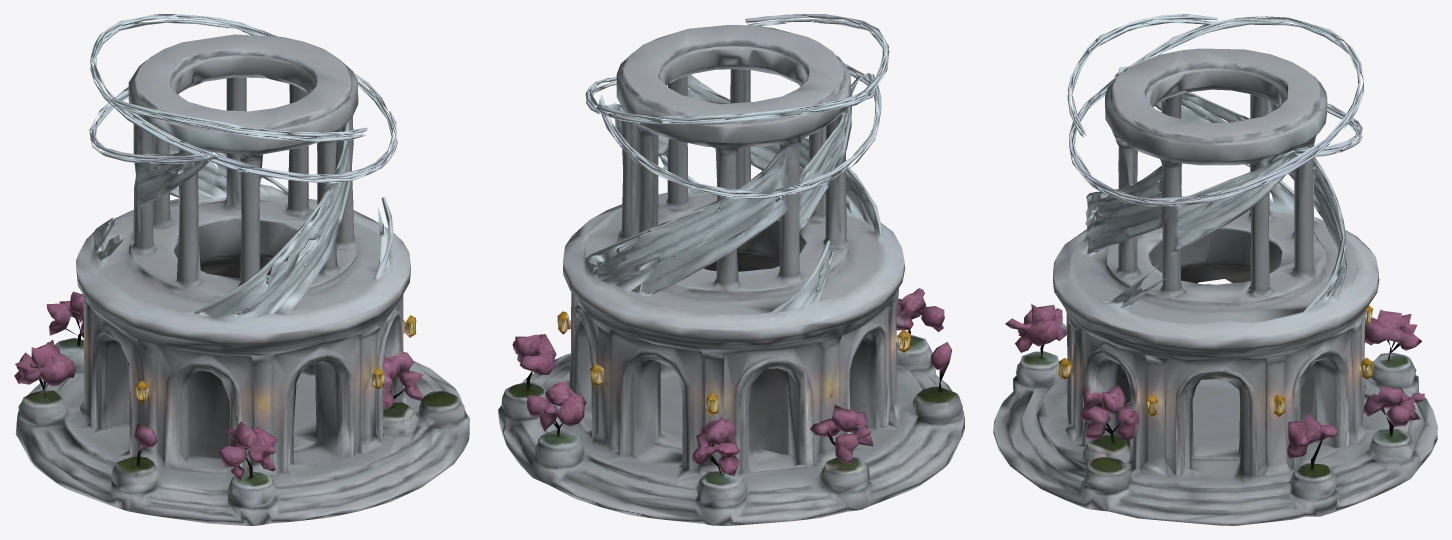
File: au_bld_hologram_plaza.glb
3 renders of one model, left to right at view 1: azimuth 30°, elevation 25°; view 2: azimuth 150°, elevation 25°; view 3: azimuth 270°, elevation 25°, orthographic. The views are drawn at different scales.
Parts seen in each view (by area): view 1: tripo_node_67000367-b17c-4018-91c3-8ee955e1a7da; view 2: tripo_node_67000367-b17c-4018-91c3-8ee955e1a7da; view 3: tripo_node_67000367-b17c-4018-91c3-8ee955e1a7da.
Part boxes in pixels (left/top/right/bottom): tripo_node_67000367-b17c-4018-91c3-8ee955e1a7da: left=14, top=14, right=469, bottom=525; tripo_node_67000367-b17c-4018-91c3-8ee955e1a7da: left=498, top=14, right=964, bottom=525; tripo_node_67000367-b17c-4018-91c3-8ee955e1a7da: left=993, top=14, right=1437, bottom=525.
Size of the model in its own units: 0.9742 by 0.8792 by 0.9769.
Materials: 1 (1 with a texture image).
